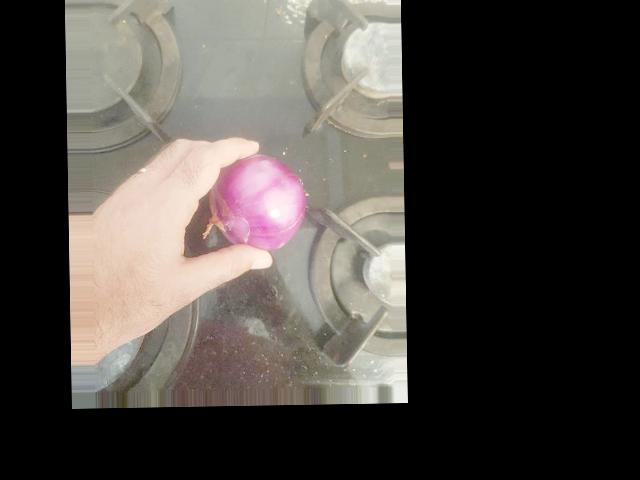onion: (257, 80, 350, 162)
